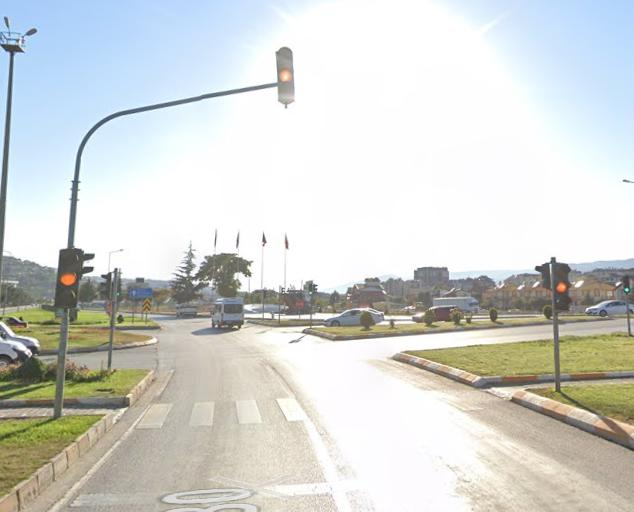yellowlight: (58, 248, 80, 306), (276, 47, 296, 102), (552, 264, 571, 307)
